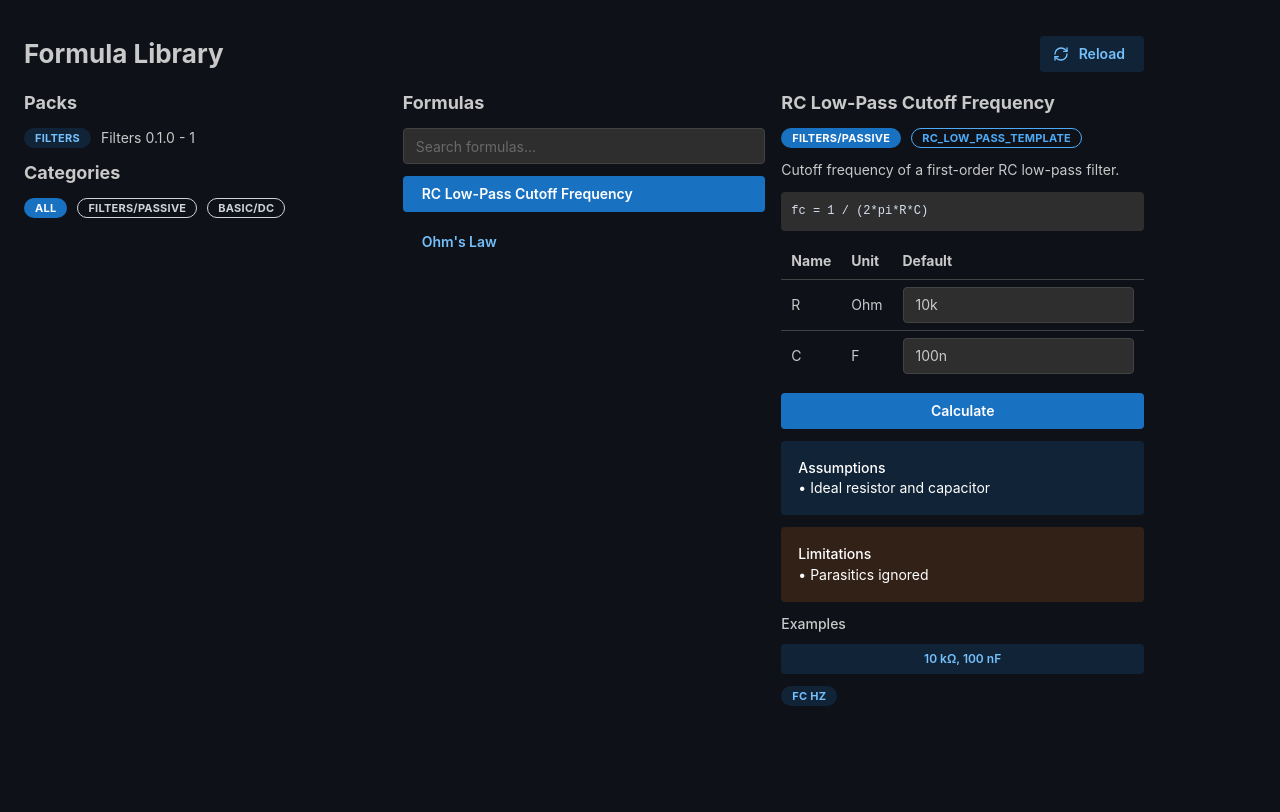
FormulaLibraryScreen › handles malformed calculation result without crashing
expect the button "RC Low-Pass Cutoff Frequency" is shown: met, box left=422, top=185, right=633, bottom=202
Click the button "RC Low-Pass Cutoff Frequency": (584, 194) left=403, top=176, right=765, bottom=212
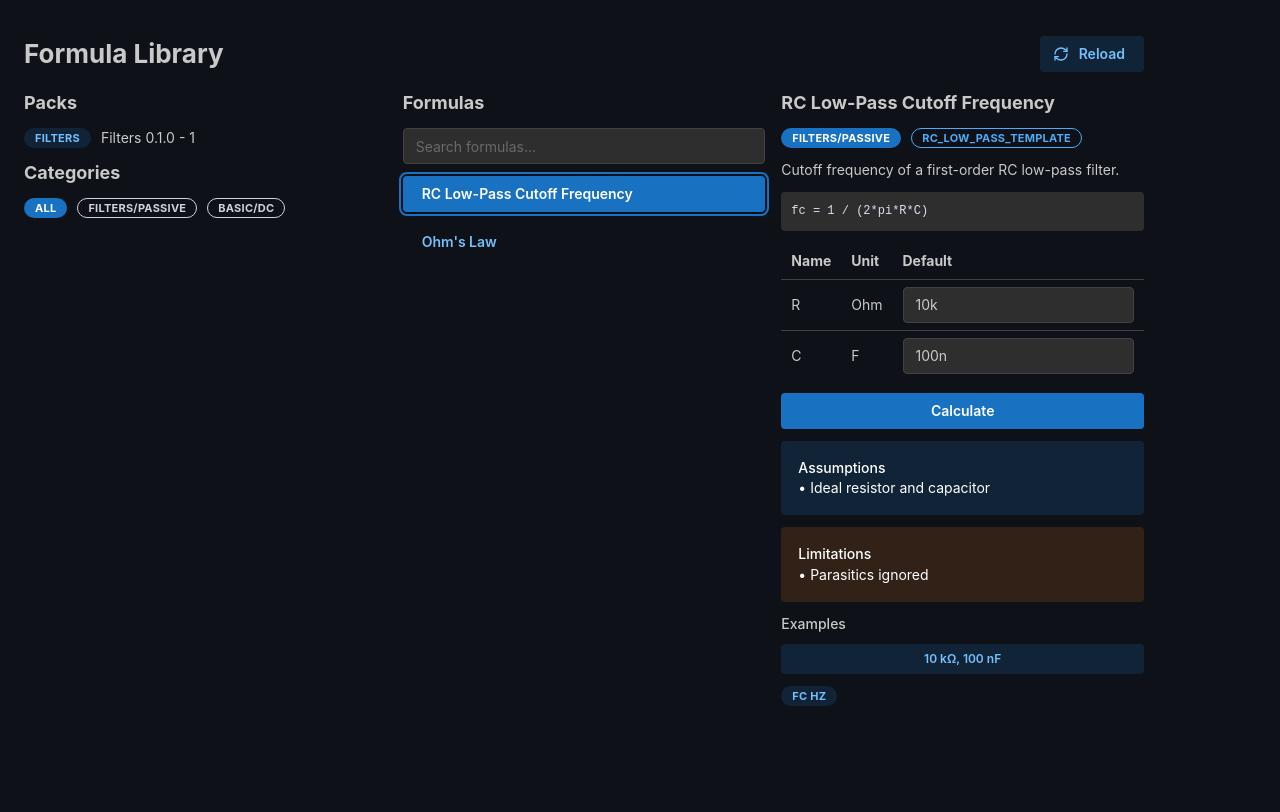
Click the button "Calculate": (963, 411) left=781, top=393, right=1144, bottom=429
(page scrolled)
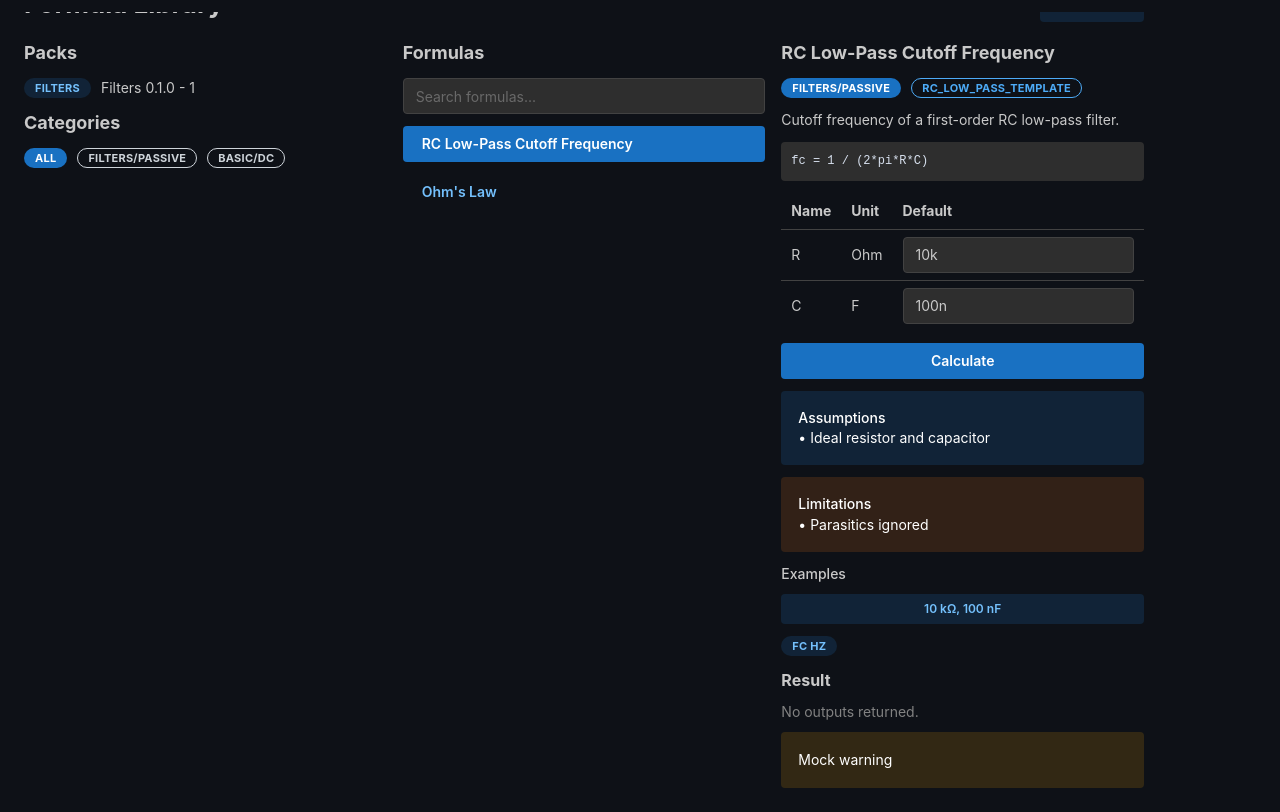
expect the text "Mock warning" is shown: met, box left=798, top=752, right=892, bottom=768
